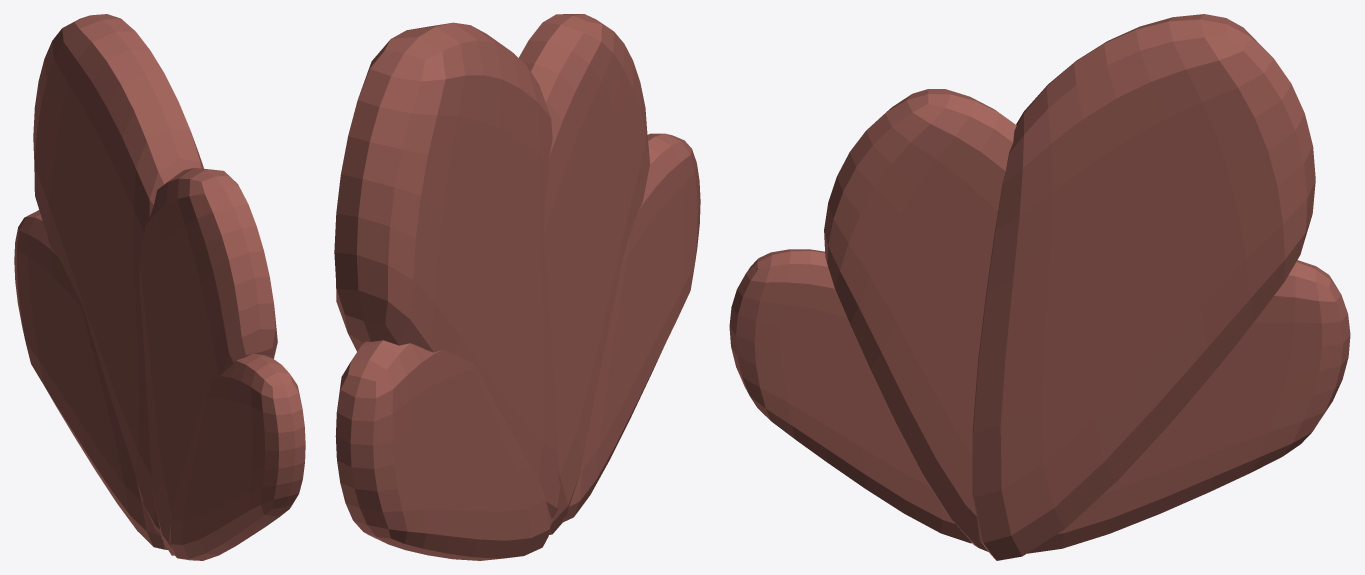
File: Decoration3.fbx
The picture shows the model from 3 angles, left to right: view 1: azimuth 30°, elevation 25°; view 2: azimuth 150°, elevation 25°; view 3: azimuth 270°, elevation 25°; orthographic projection. The views are drawn at different scales.
Visible parts, largest first — view 1: Plane.016, Plane.020, Plane.041, Plane.040; view 2: Plane.016, Plane.040, Plane.020, Plane.041; view 3: Plane.016, Plane.020, Plane.040, Plane.041.
Boxes of the visible parts, x1,y1,x2,y2 form: Plane.016: [33, 14, 203, 533]; Plane.020: [139, 167, 277, 555]; Plane.041: [169, 353, 305, 560]; Plane.040: [14, 210, 167, 549]; Plane.016: [334, 22, 560, 518]; Plane.040: [335, 340, 552, 560]; Plane.020: [519, 14, 649, 534]; Plane.041: [561, 133, 700, 522]; Plane.016: [972, 14, 1315, 560]; Plane.020: [824, 89, 1016, 551]; Plane.040: [1027, 260, 1350, 553]; Plane.041: [729, 249, 971, 543].
Bounding box in the file's own units: 7.68 × 52.66 × 55.03.
